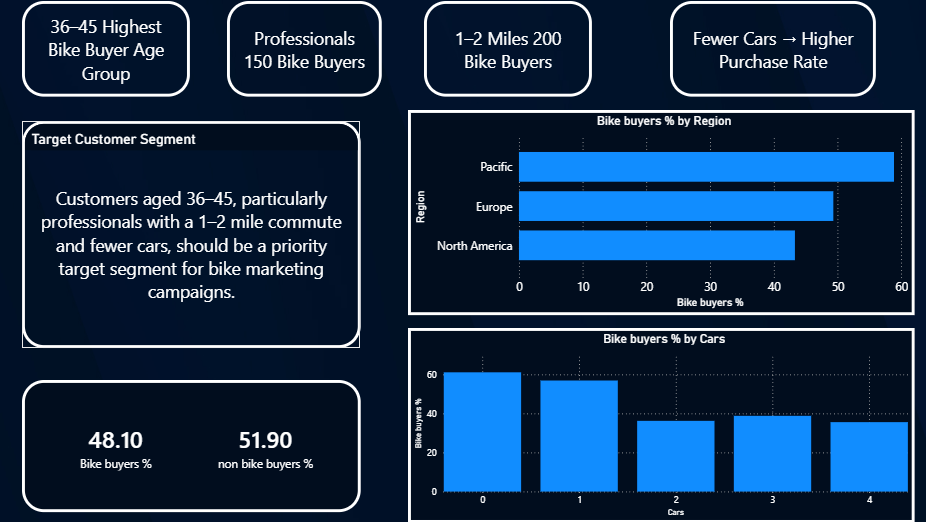

This screenshot's page, from the dashboard's own definition file:
{"tool":"powerbi","page":{"name":"Target Customer Segment","canvas":[1280,720],"ordinal":2},"visuals":[{"type":"clusteredBarChart","fields":{"Y":["bike_buyers raw data.Bike buyers %"],"Category":["bike_buyers raw data.Region"]},"box":[564.4,154.5,693.8,280.5],"z":0},{"type":"actionButton","box":[35.3,5,230.1,131],"z":2000},{"type":"actionButton","box":[315.8,5,211.7,131],"z":3000},{"type":"actionButton","box":[586.2,5,230.1,131],"z":4000},{"type":"clusteredColumnChart","fields":{"Y":["bike_buyers raw data.Bike buyers %"],"Category":["bike_buyers raw data.Cars"]},"box":[564.4,453.5,693.8,267.1],"z":5000},{"type":"actionButton","box":[923.9,5,282.2,131],"z":6000},{"type":"actionButton","title":"Target Customer Segment","box":[35.3,169.7,463.6,310.8],"z":7000},{"type":"cardVisual","fields":{"Data":["bike_buyers raw data.Bike buyers %","bike_buyers raw data.non bike buyers %"]},"box":[35.3,524.1,463.6,181.4],"z":7001}]}

Visuals, with their boxes in screenshot pixels (x1, y1, x2, y2), scaled from the page's 1280x720 canvas onto the 926x522 screenshot:
clusteredBarChart - bike_buyers raw data.Bike buyers % x bike_buyers raw data.Region: [x1=408, y1=112, x2=910, y2=315]
actionButton: [x1=26, y1=4, x2=192, y2=99]
actionButton: [x1=228, y1=4, x2=382, y2=99]
actionButton: [x1=424, y1=4, x2=591, y2=99]
clusteredColumnChart - bike_buyers raw data.Bike buyers % x bike_buyers raw data.Cars: [x1=408, y1=329, x2=910, y2=521]
actionButton: [x1=668, y1=4, x2=873, y2=99]
"Target Customer Segment" actionButton: [x1=26, y1=123, x2=361, y2=348]
cardVisual - bike_buyers raw data.Bike buyers % x bike_buyers raw data.non bike buyers %: [x1=26, y1=380, x2=361, y2=511]
